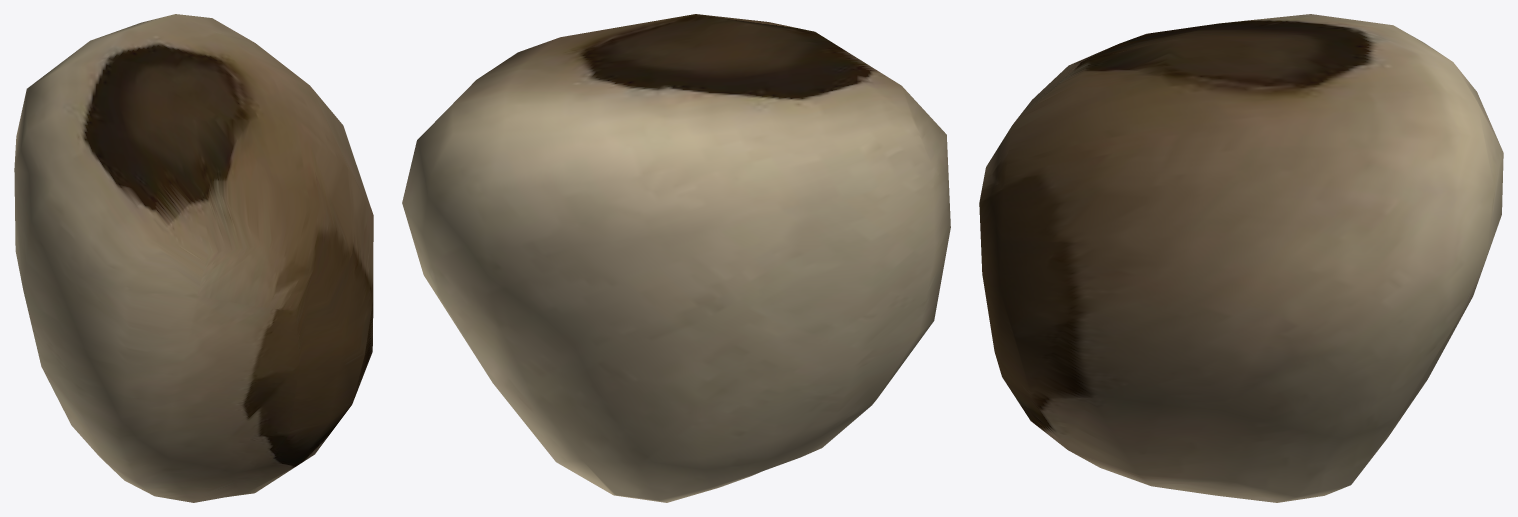
The model's file is Metatarsal_I.glb.
3 views of the same model, side by side, from view 1: azimuth 30°, elevation 25°; view 2: azimuth 150°, elevation 25°; view 3: azimuth 270°, elevation 25° (orthographic). The views are drawn at different scales.
Visible parts, largest first — view 1: Metatarsal_I_Left1:Group62671; view 2: Metatarsal_I_Left1:Group62671; view 3: Metatarsal_I_Left1:Group62671.
Boxes of the visible parts, x1,y1,x2,y2 form: Metatarsal_I_Left1:Group62671: (14,14,373,502); Metatarsal_I_Left1:Group62671: (402,14,950,502); Metatarsal_I_Left1:Group62671: (979,14,1503,502).
Bounding box in the file's own units: 4.73 × 4.95 × 5.35.
1 material, 1 textured.
